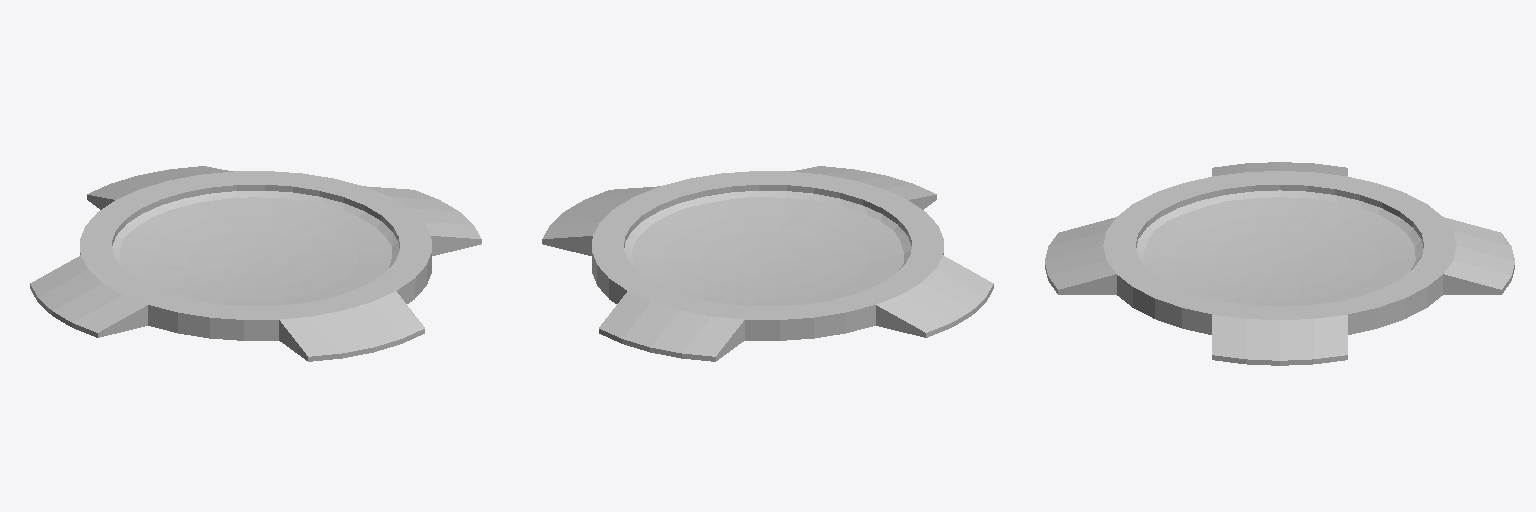
Rendered from teleporter.obj.
3 renders of one model, left to right at view 1: azimuth 30°, elevation 25°; view 2: azimuth 150°, elevation 25°; view 3: azimuth 270°, elevation 25°, orthographic.
Visible parts, largest first — view 1: Cylinder; view 2: Cylinder; view 3: Cylinder.
Boxes of the visible parts, <box> form: Cylinder: <box>30,166,481,361</box>; Cylinder: <box>542,166,993,361</box>; Cylinder: <box>1045,162,1514,365</box>.
Size of the model in its own units: 3.99 by 0.1956 by 3.99.